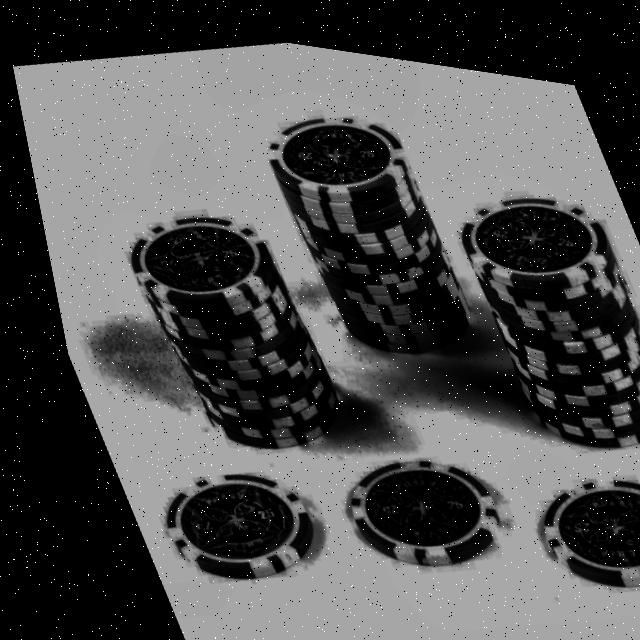Chip: (81, 176, 354, 474), (232, 70, 489, 374), (426, 147, 640, 462), (102, 434, 335, 615), (308, 421, 507, 584), (492, 425, 640, 605)
